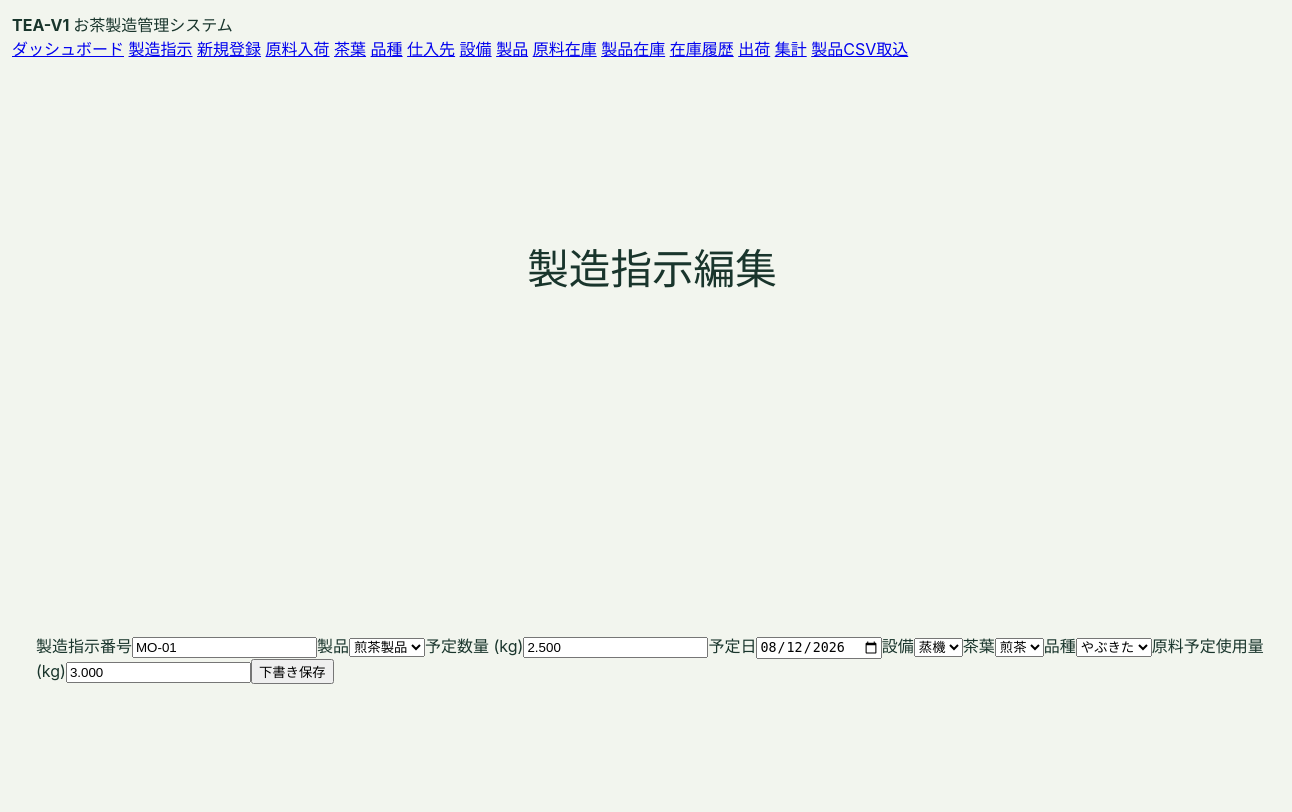
Test: 下書き編集フォームを初期化して更新APIへ渡す
The width and height of the screenshot is (1292, 812).
Check: the heading "製造指示編集" is shown, box [527,236,777,296]
Replace the text in the field labelled "製造指示番号" with "MO-EDIT" at (224, 648), box [132,637,317,658]
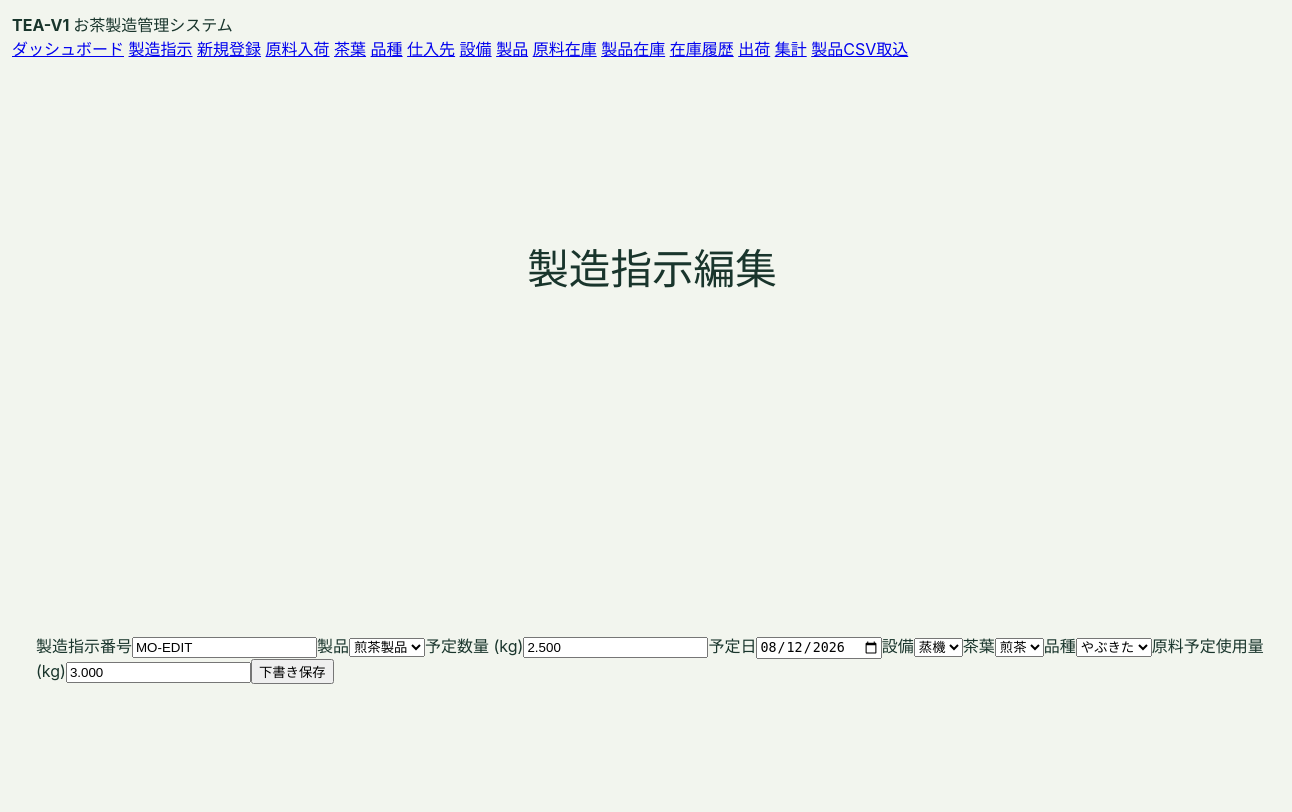
Click the button "下書き保存" at (292, 671), box [251,658,334,684]
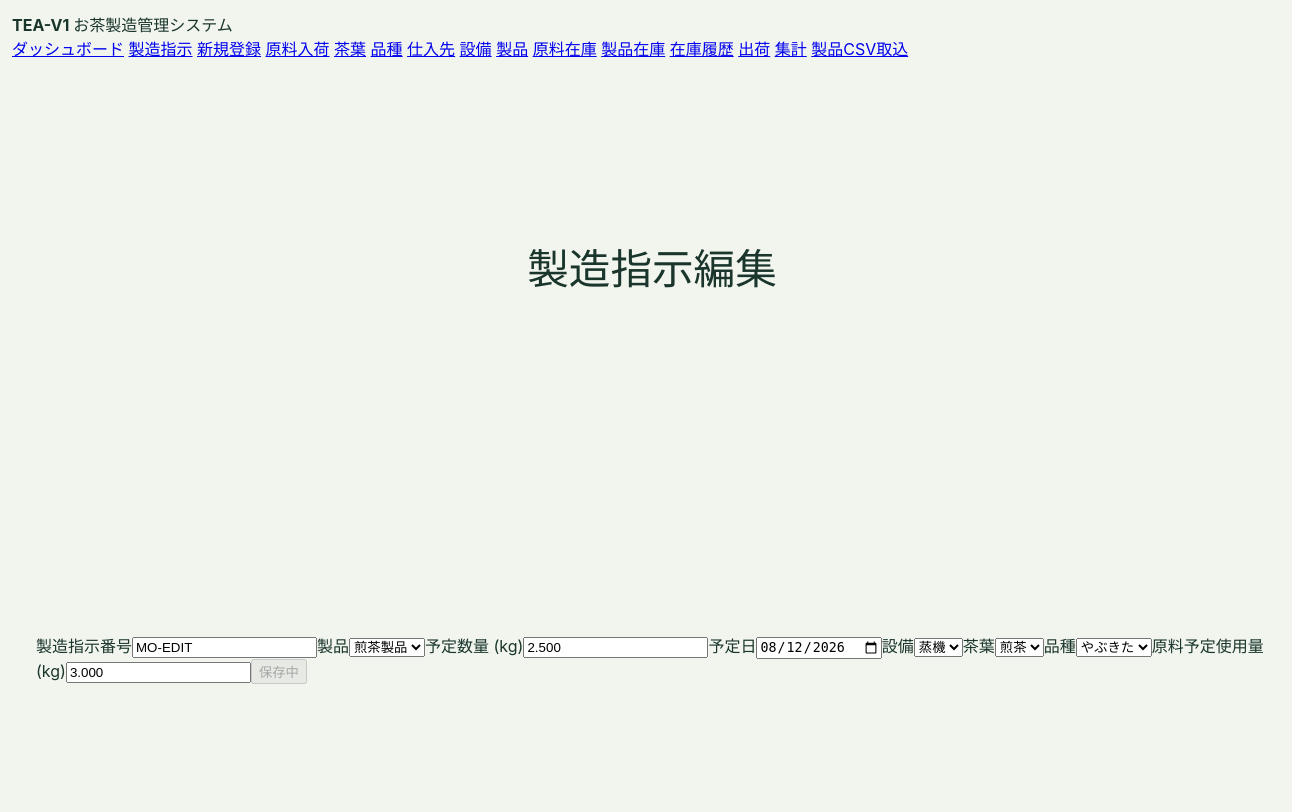
Check: the button "保存中" is disabled, box [251,658,307,684]
